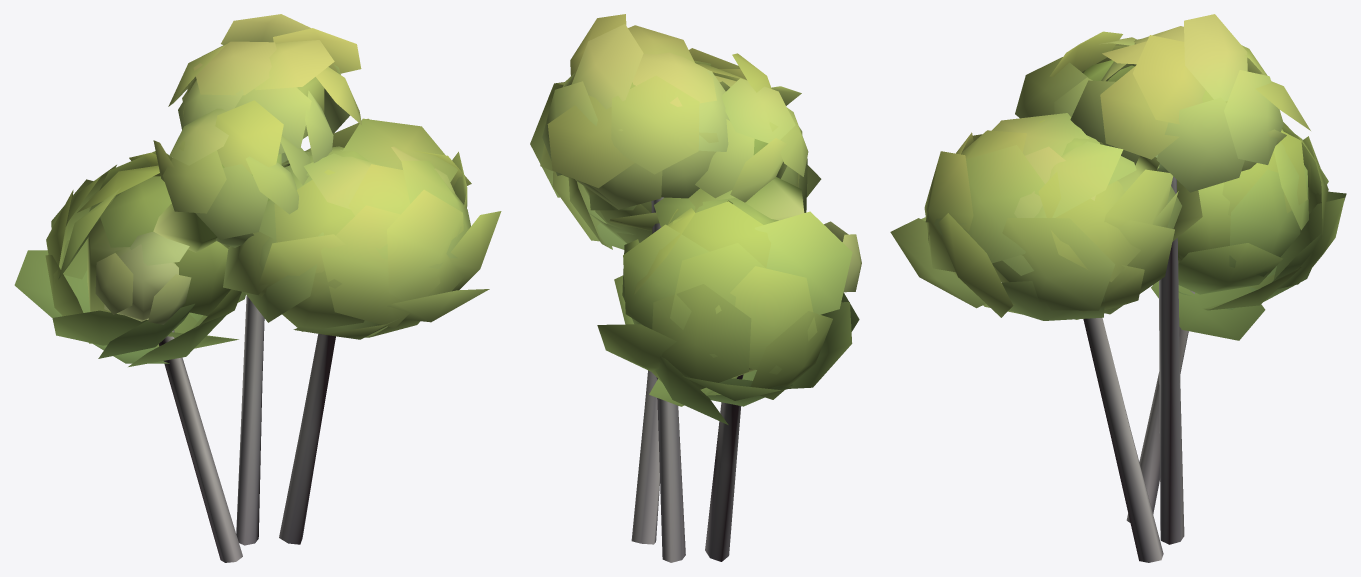
File: veg_wild_birch.glb
3 renders of one model, left to right at view 1: azimuth 30°, elevation 25°; view 2: azimuth 150°, elevation 25°; view 3: azimuth 270°, elevation 25°, orthographic. The views are drawn at different scales.
Visible parts, largest first — view 1: SM_scatter_veg_leaf_clip_x0_z0_raw.006; view 2: SM_scatter_veg_leaf_clip_x0_z0_raw.006; view 3: SM_scatter_veg_leaf_clip_x0_z0_raw.006.
Part boxes in pixels (<box>): SM_scatter_veg_leaf_clip_x0_z0_raw.006: <box>14,14,501,562</box>; SM_scatter_veg_leaf_clip_x0_z0_raw.006: <box>530,14,861,562</box>; SM_scatter_veg_leaf_clip_x0_z0_raw.006: <box>890,14,1346,562</box>.
Size of the model in its own units: 2.74 by 3.79 by 2.89.
